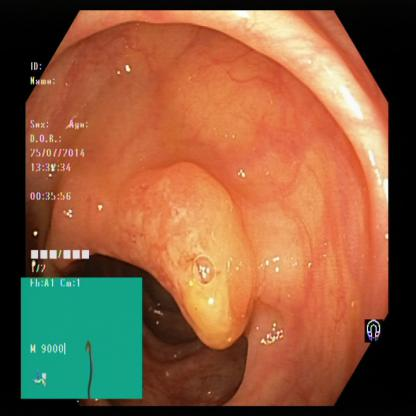Labels: (26, 61, 96, 278), (22, 278, 142, 398), (359, 311, 384, 345)
Polyps: (150, 156, 260, 345)
